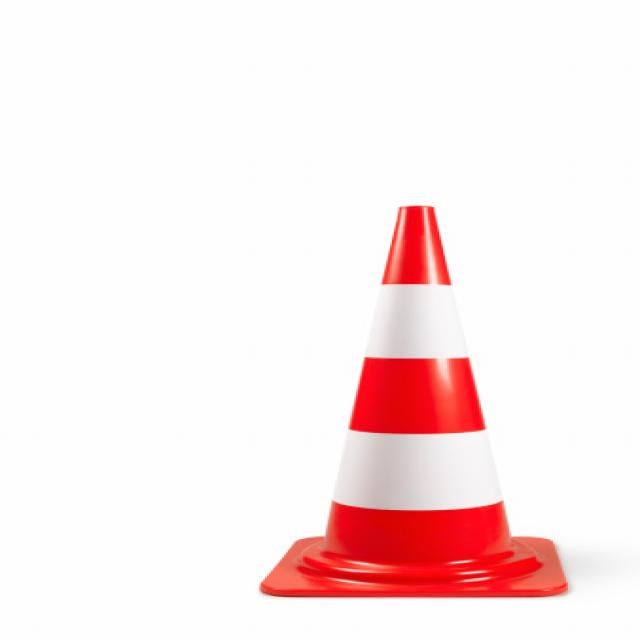cone: (190, 149, 596, 605)
